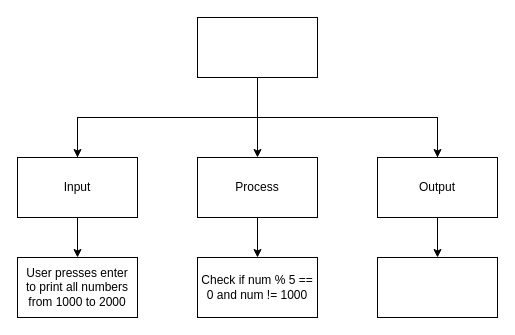
This 515x335 diagram has some shape labels left out. The shapes that lost their labels are listed below. From the top down, each one's centre as x and y in pixels, then its label:
At (x=257, y=47): "number loop".
At (x=437, y=287): "Show all numbers from 1000 to 2000".
